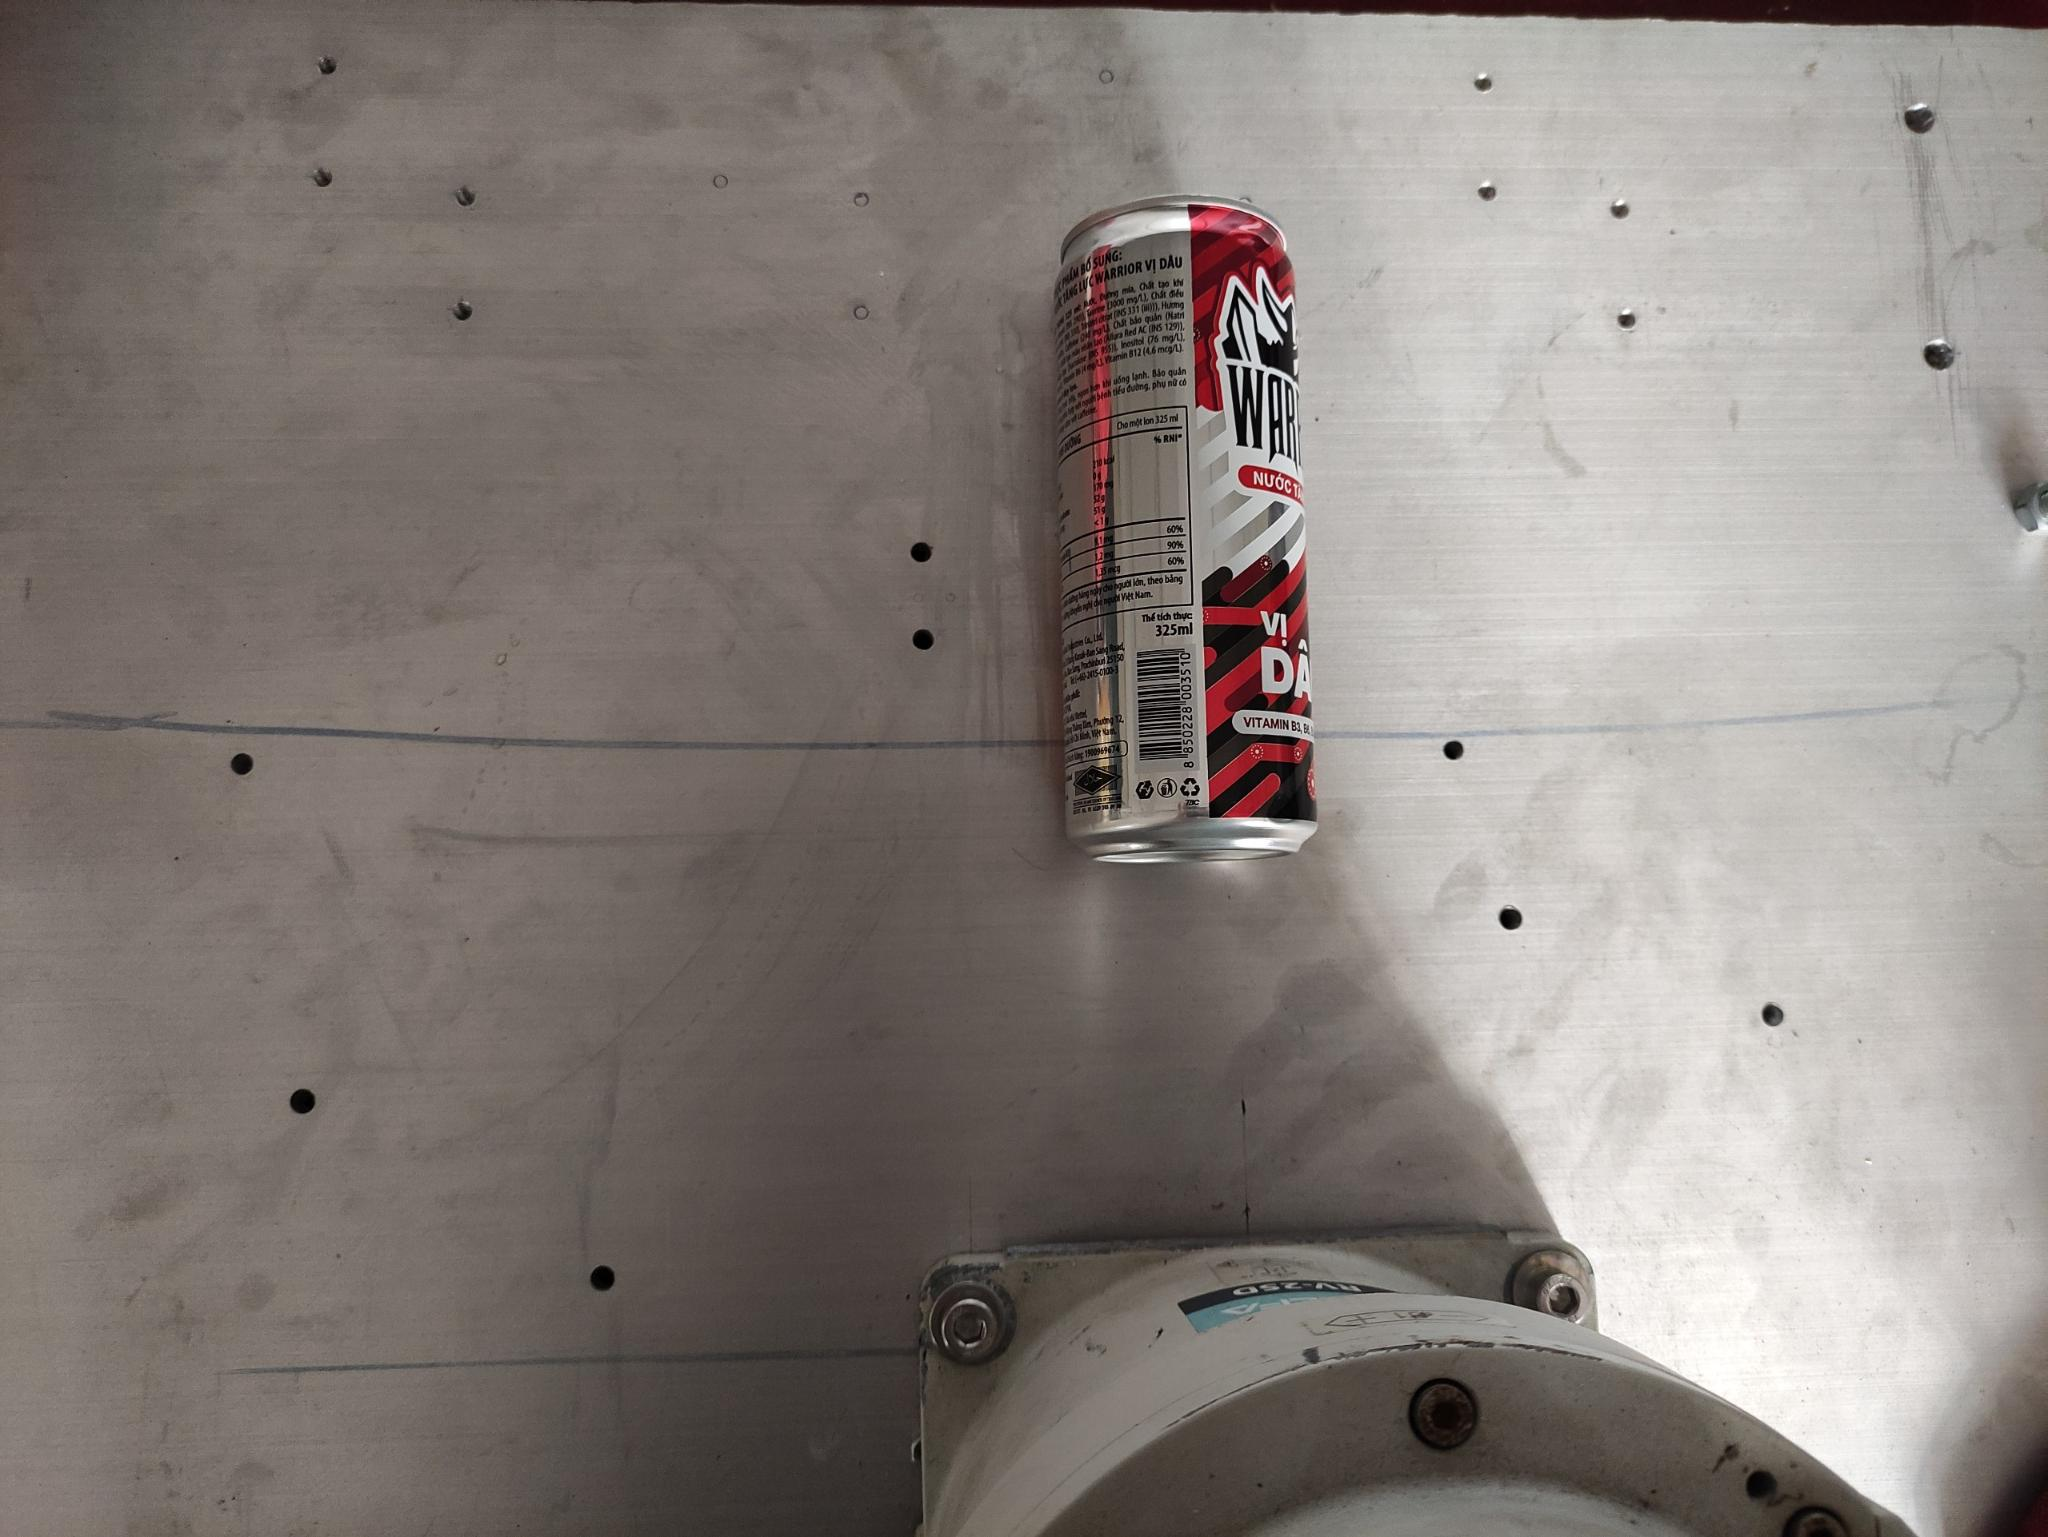metal: (915, 1240, 1906, 1535), (1055, 199, 1315, 859)
